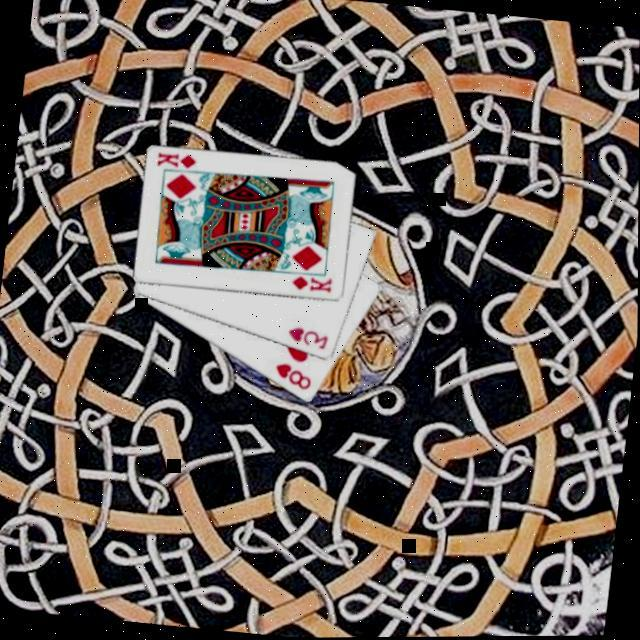3H: (282, 324, 330, 354)
8H: (268, 360, 314, 394)
KD: (286, 272, 334, 298), (151, 148, 198, 173)
